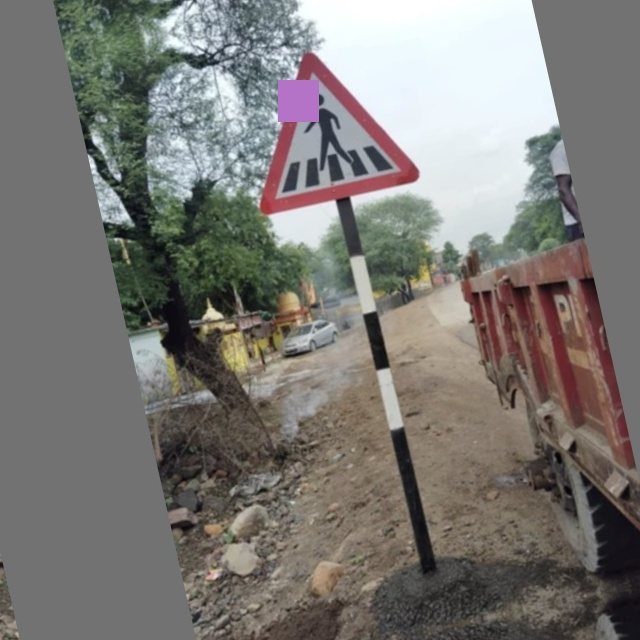Pedestrian_Crossing: (231, 21, 428, 218)
